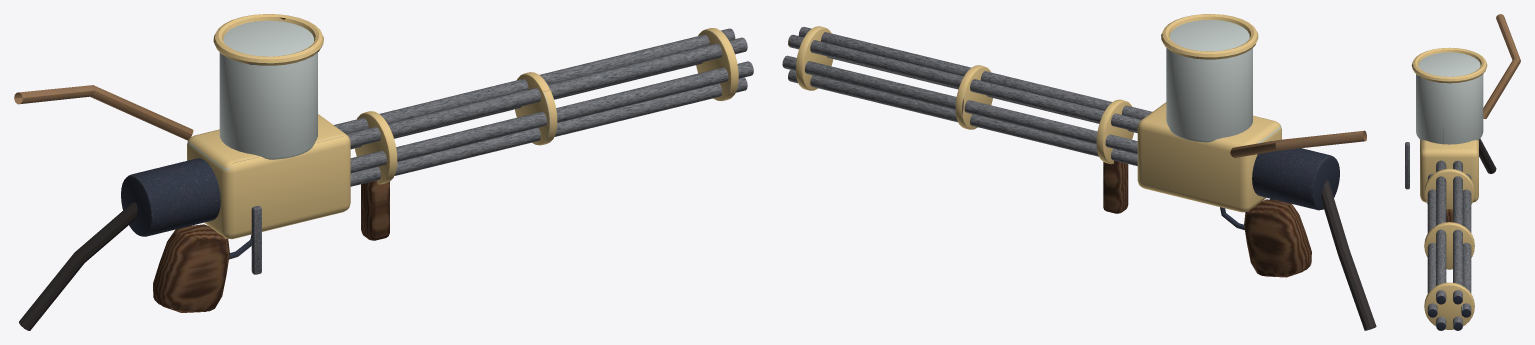
Rendered from gatling.glb.
3 renders of one model, left to right at view 1: azimuth 30°, elevation 25°; view 2: azimuth 150°, elevation 25°; view 3: azimuth 270°, elevation 25°, orthographic. The views are drawn at different scales.
Visible parts, largest first — view 1: hopper, housing, barrel3, barrel2, motor, grip, barrel4, barrel1, gas_hose, strap, hopper_rim, fore_handle (+5 smaller); view 2: hopper, housing, barrel0, barrel1, grip, motor, barrel5, barrel2, gas_hose, hopper_rim, strap, fore_handle (+4 smaller); view 3: hopper, housing, barrel2, barrel_plate0.42, barrel1, hopper_rim, strap, barrel3, barrel0, barrel_plate0.25, barrel_plate0.1, gas_hose (+3 smaller).
Part boxes in pixels (x1,y1,x2,y2): hopper: [219, 20, 317, 159]; housing: [187, 114, 350, 239]; barrel3: [350, 61, 753, 173]; barrel2: [346, 37, 747, 147]; motor: [121, 158, 220, 236]; grip: [153, 224, 229, 312]; barrel4: [350, 77, 747, 186]; barrel1: [334, 28, 735, 133]; gas_hose: [19, 202, 137, 330]; strap: [14, 85, 193, 140]; hopper_rim: [213, 14, 323, 65]; fore_handle: [361, 180, 389, 240]; hopper: [1166, 20, 1252, 142]; housing: [1137, 102, 1281, 212]; barrel0: [782, 55, 1137, 154]; barrel1: [788, 34, 1141, 131]; grip: [1244, 199, 1311, 277]; motor: [1252, 141, 1339, 210]; barrel5: [788, 70, 1137, 165]; barrel2: [798, 27, 1152, 119]; gas_hose: [1321, 180, 1376, 330]; hopper_rim: [1161, 14, 1258, 59]; strap: [1230, 130, 1366, 157]; fore_handle: [1103, 160, 1128, 213]; hopper: [1416, 52, 1483, 144]; housing: [1420, 139, 1478, 202]; barrel2: [1436, 160, 1446, 304]; barrel_plate0.42: [1424, 282, 1474, 329]; barrel1: [1453, 160, 1462, 304]; hopper_rim: [1411, 47, 1487, 83]; strap: [1483, 14, 1520, 118]; barrel3: [1427, 174, 1437, 317]; barrel0: [1461, 173, 1471, 317]; barrel_plate0.25: [1424, 222, 1474, 269]; barrel_plate0.1: [1424, 168, 1474, 209]; gas_hose: [1479, 138, 1496, 173].
Size of the model in its own units: 0.6449 by 0.2375 by 0.1379.
Materials: 1 (1 with a texture image).
